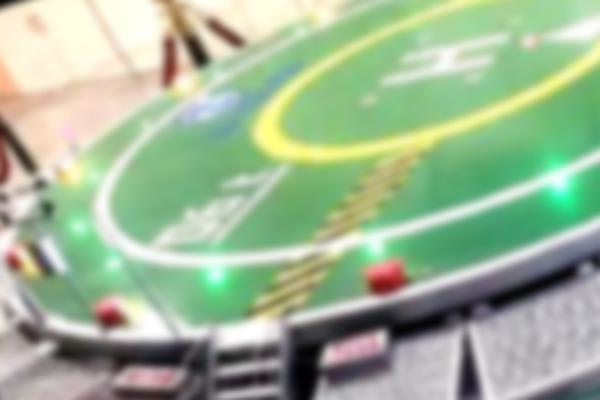Apron: (243, 4, 600, 188)
